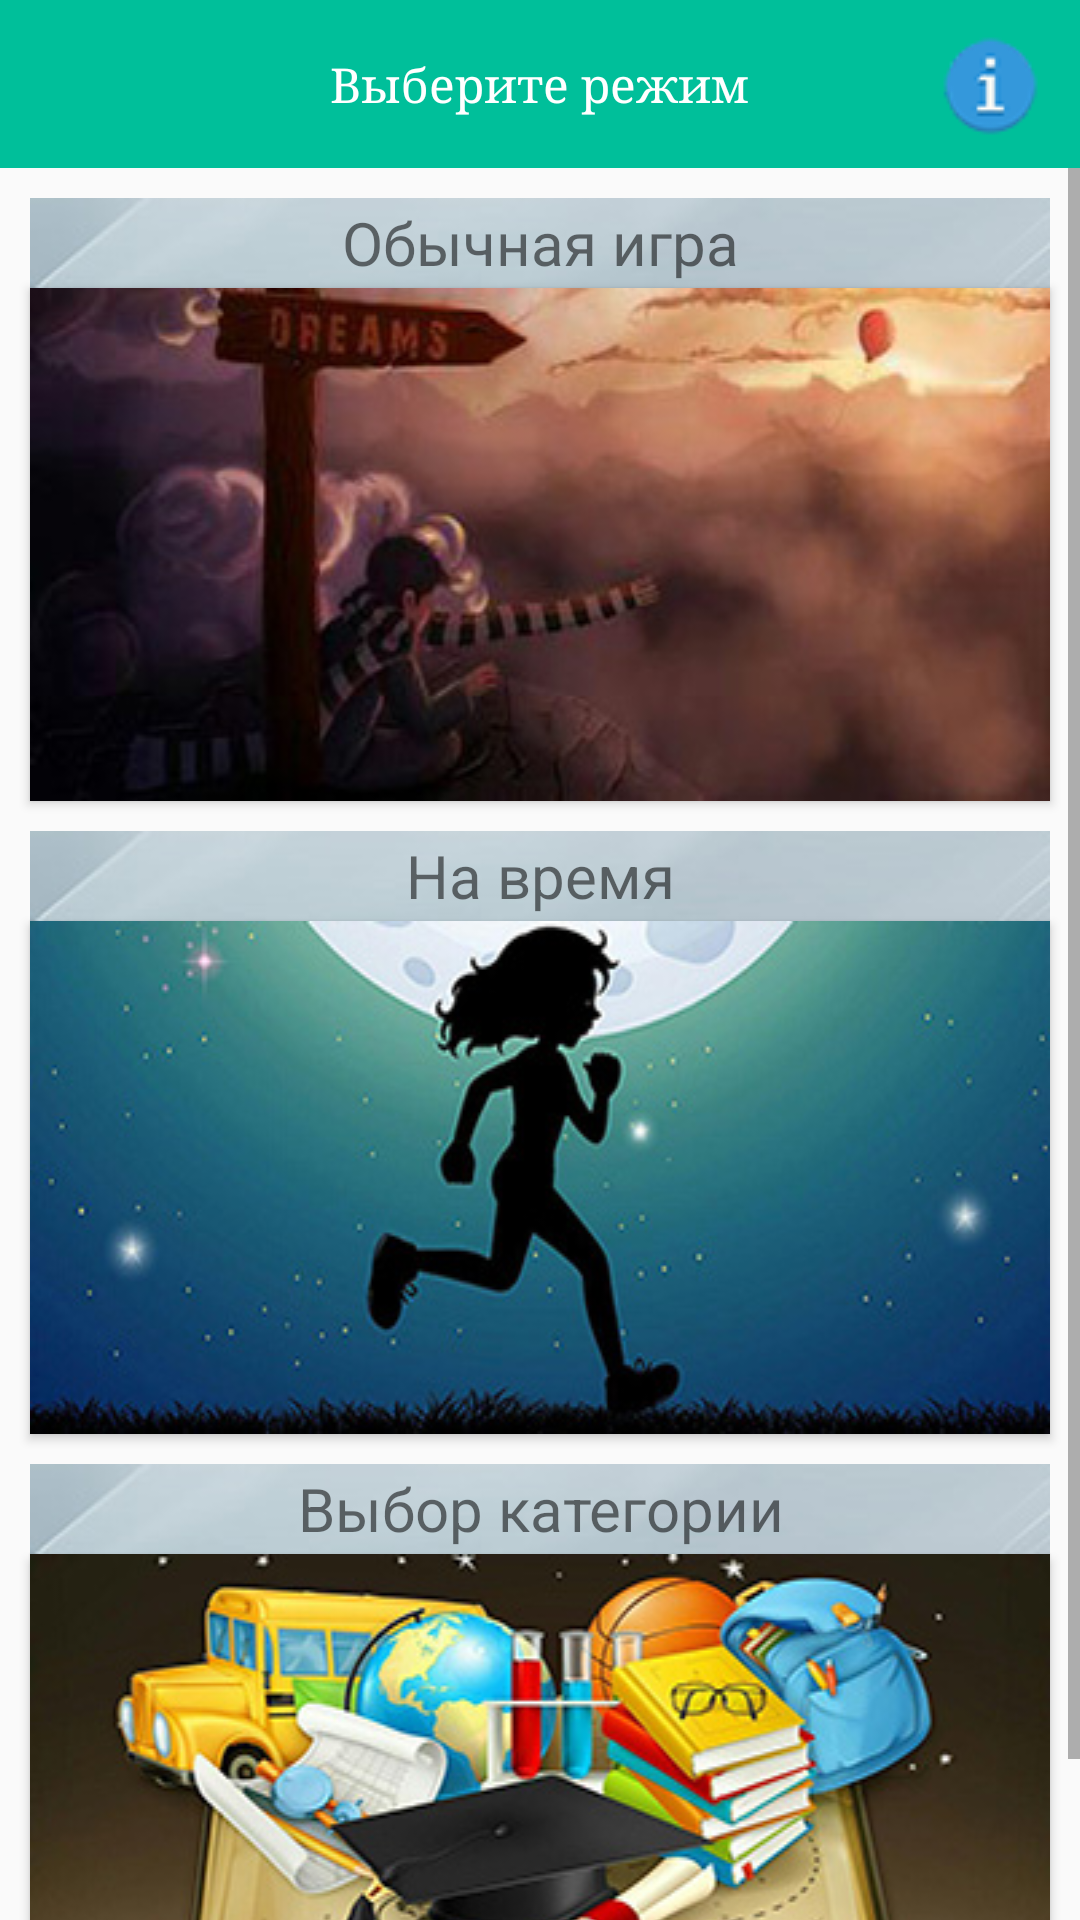

Icons on this 1080px×1920px Android screen, each with its box as (x1=x1, y1=y1, x2=x2, y2=y2):
info: (x1=944, y1=39, x2=1036, y2=133)
